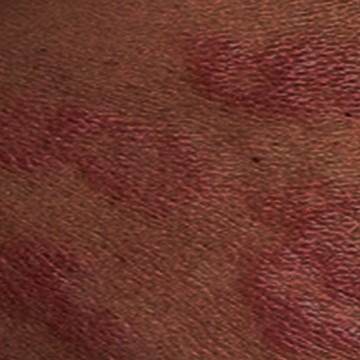Leprosy: (2, 84, 213, 223), (220, 174, 359, 359), (172, 29, 359, 129)
